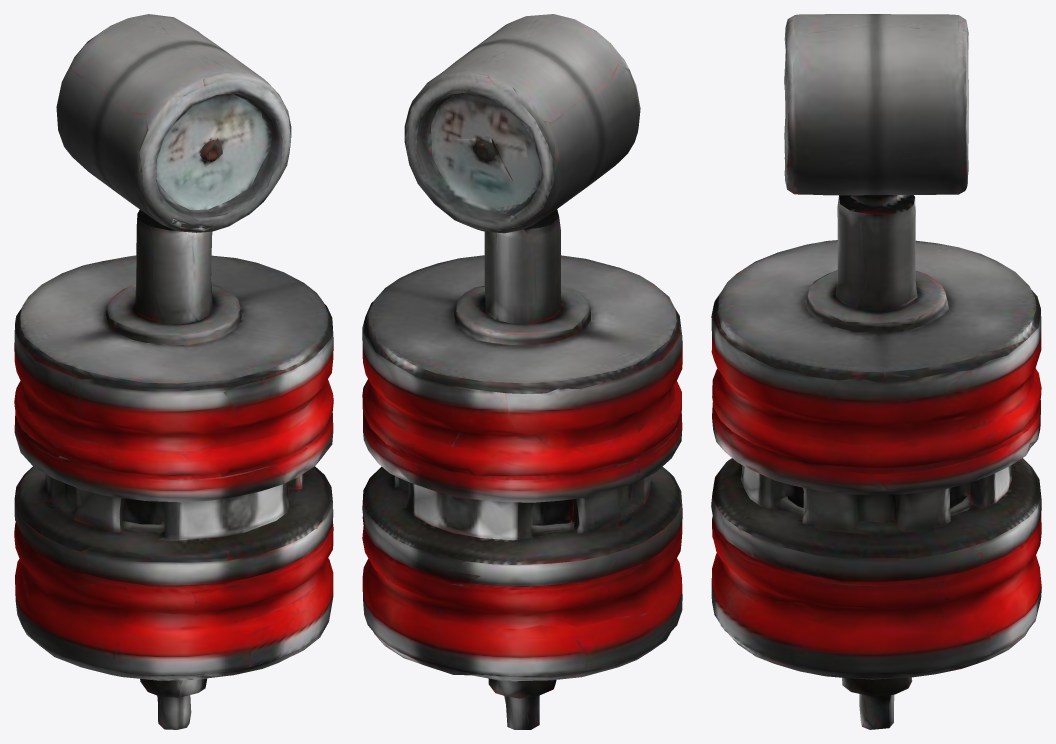
Rendered from kn_piston_overdrive.glb.
3 renders of one model, left to right at view 1: azimuth 30°, elevation 25°; view 2: azimuth 150°, elevation 25°; view 3: azimuth 270°, elevation 25°, orthographic. The views are drawn at different scales.
Visible parts, largest first — view 1: geometry_0; view 2: geometry_0; view 3: geometry_0.
Boxes of the visible parts, x1,y1,x2,y2 form: geometry_0: (14, 14, 333, 729); geometry_0: (362, 14, 682, 729); geometry_0: (711, 14, 1041, 729).
Bounding box in the file's own units: 0.4292 × 1 × 0.4289.
1 material, 1 textured.
